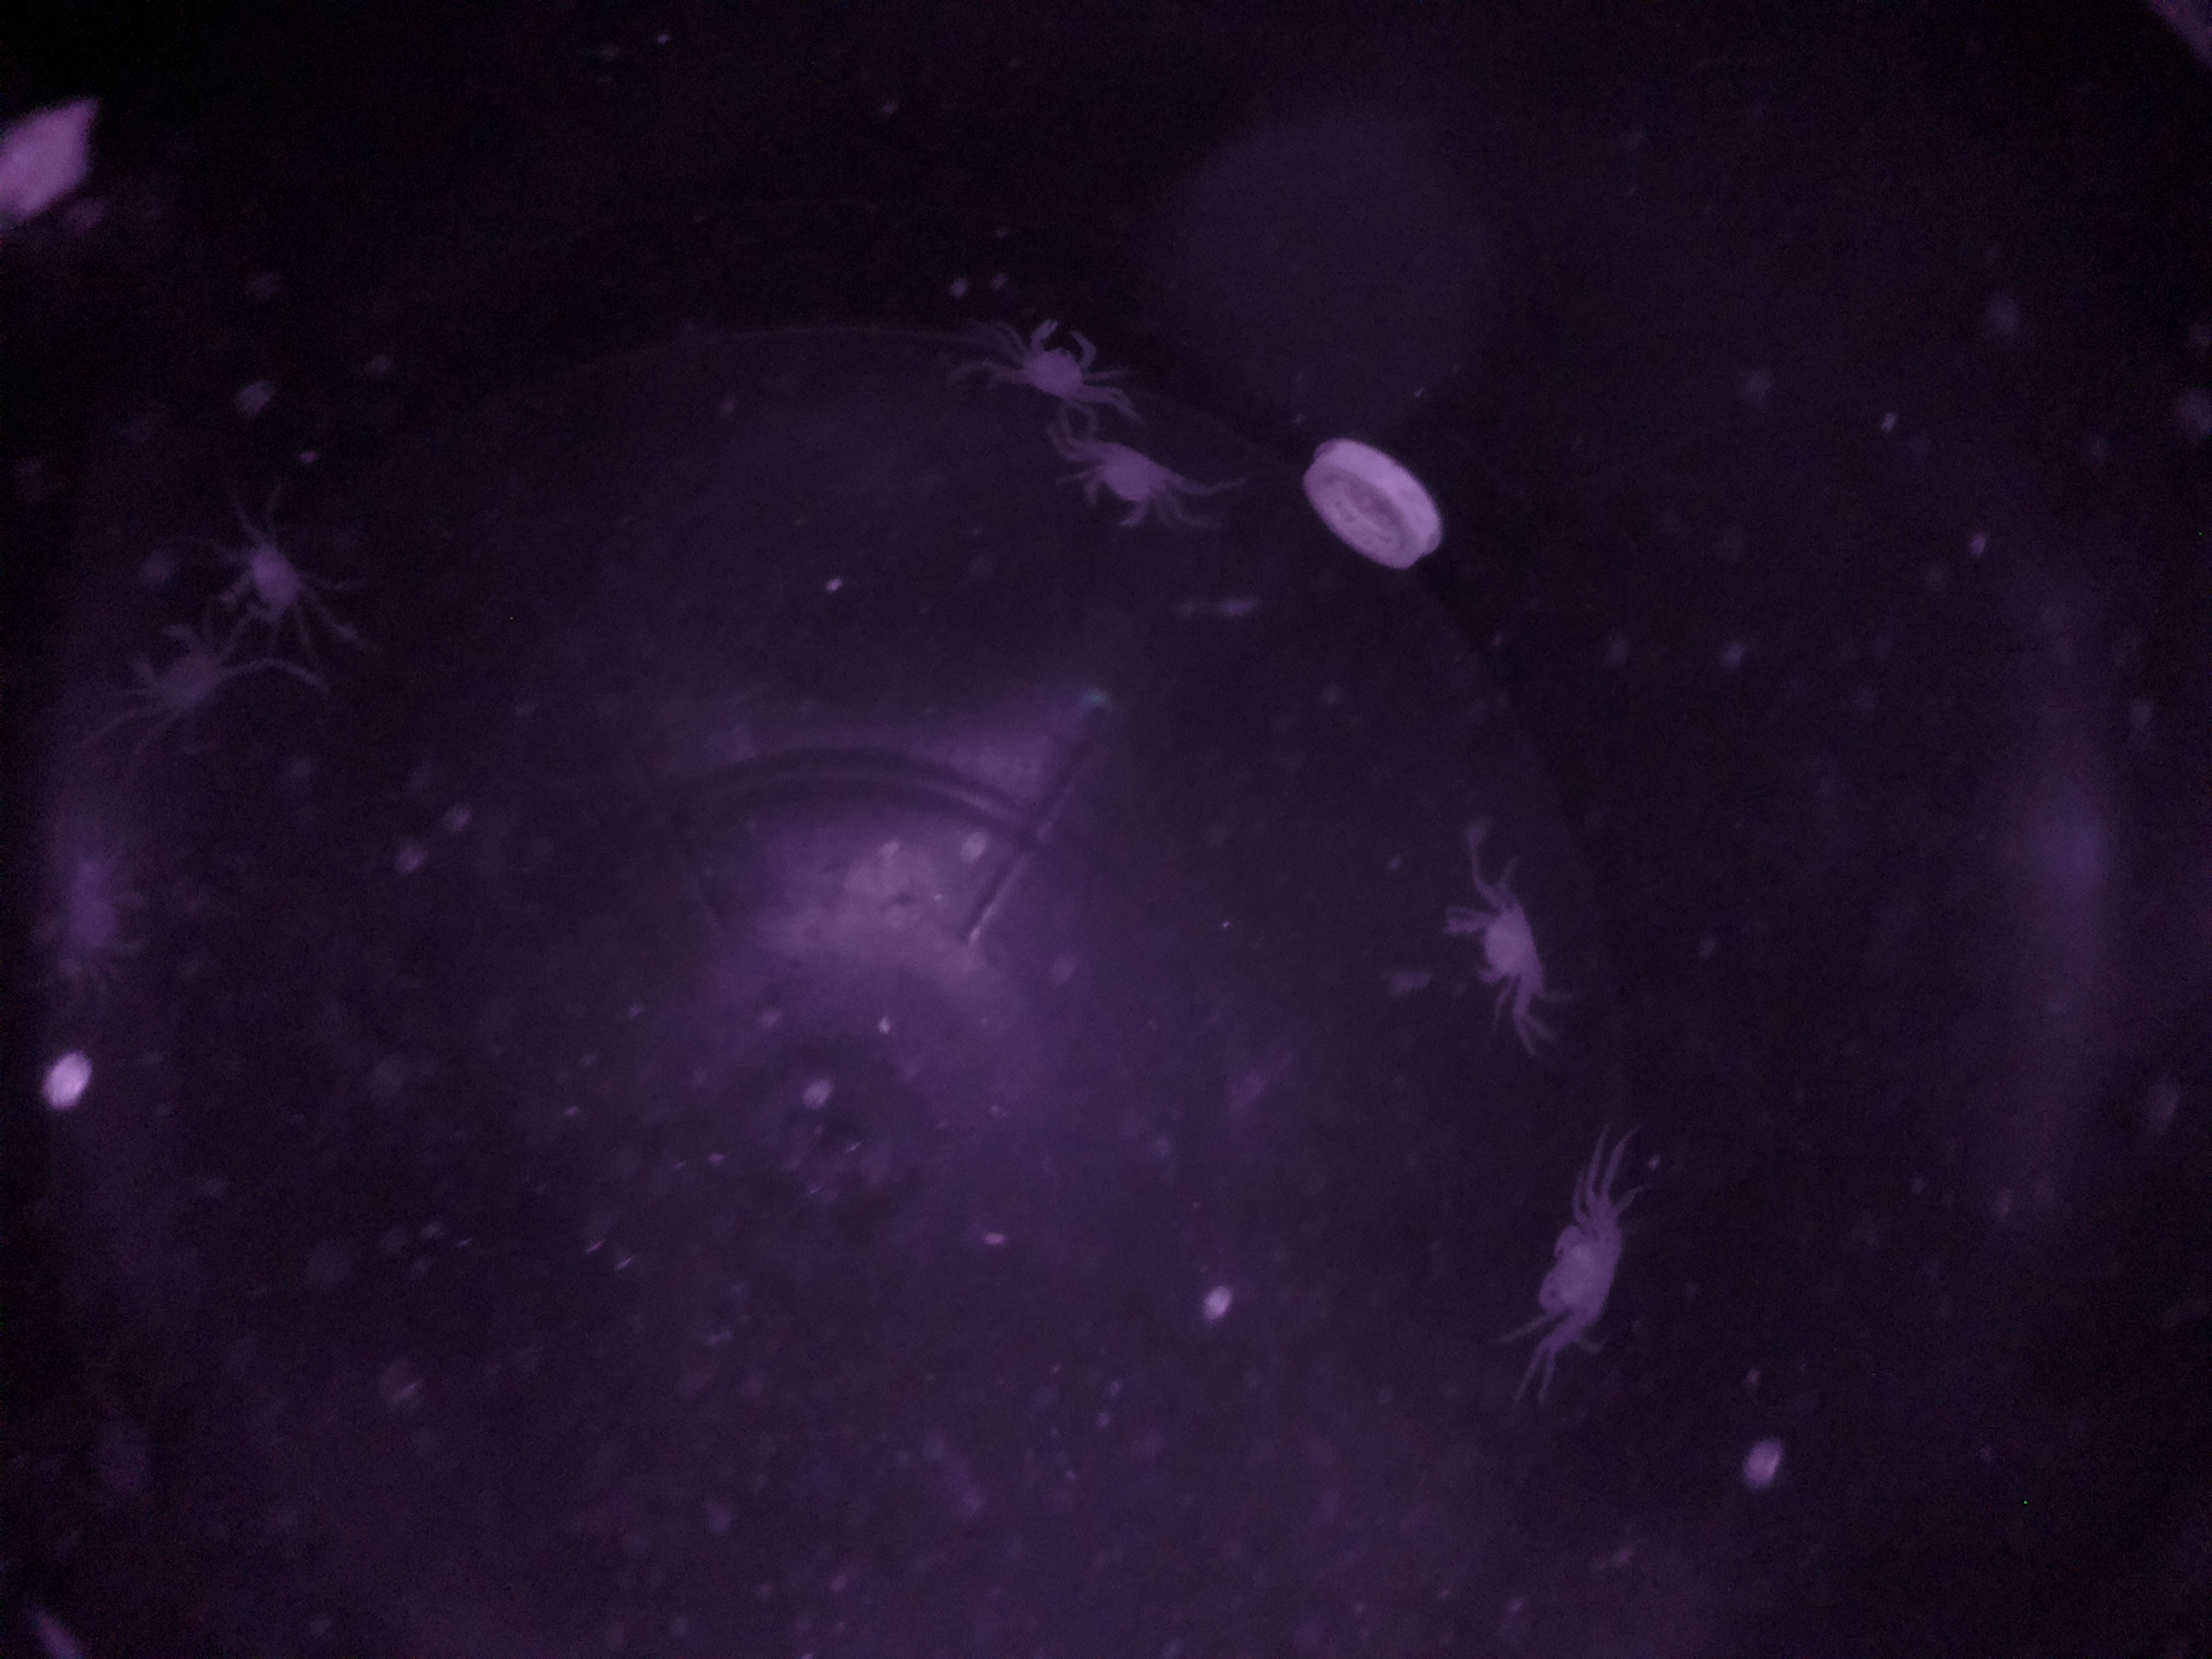Crab: (1505, 1182, 1649, 1371), (1054, 415, 1212, 565), (1423, 880, 1573, 1018)
